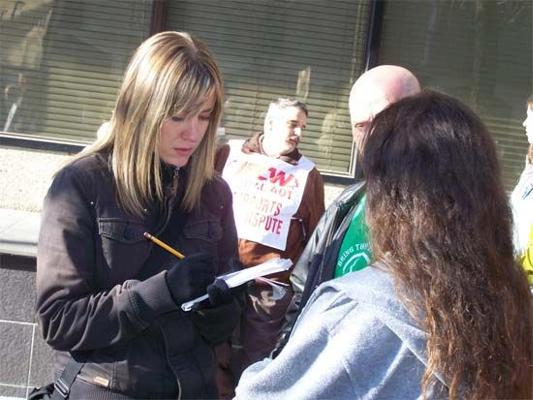person: (36, 32, 248, 400)
